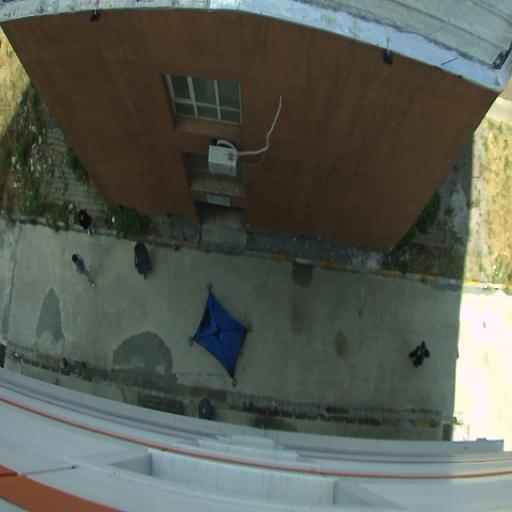tent: (188, 278, 254, 388)
